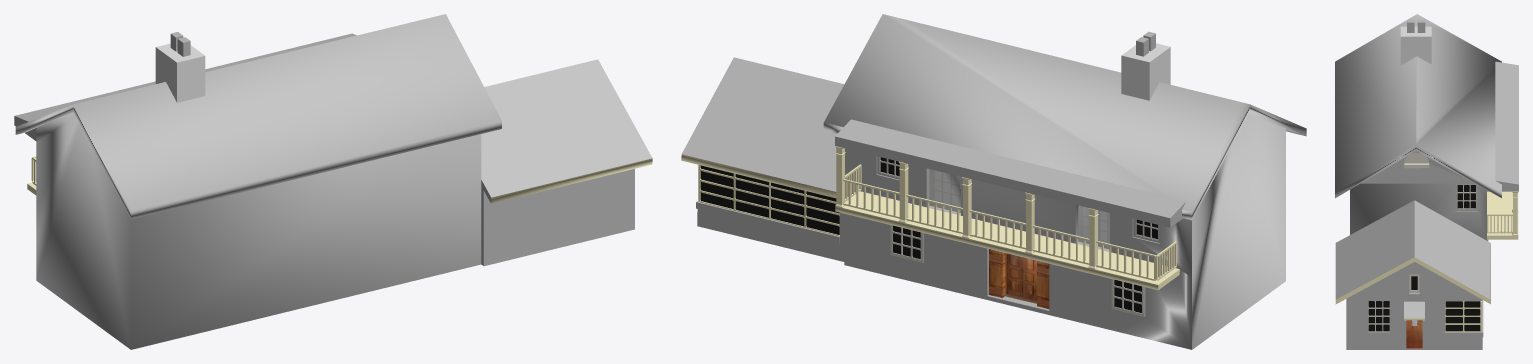
The model's file is bldgtest.fbx.
3 views of the same model, side by side, from view 1: azimuth 30°, elevation 25°; view 2: azimuth 150°, elevation 25°; view 3: azimuth 270°, elevation 25° (orthographic). The views are drawn at different scales.
Visible parts, largest first — view 1: House, House.009, House.005; view 2: House, House.009, House.002, Railing, Pillars, DoorFront, House.005, DoorFloor2, House.001, House.004; view 3: House.009, House, House.002, House.005, House.003, House.008, Door1, House.006, House.010, Railing, Pillars, House.007.
Boxes of the visible parts, box(x1,y1,x2,y2) form: House: box(27, 59, 652, 349); House.009: box(14, 14, 501, 219); House.005: box(155, 32, 205, 102); House: box(681, 57, 1285, 349); House.009: box(823, 14, 1306, 227); House.002: box(696, 165, 839, 243); Railing: box(843, 164, 1176, 280); Pillars: box(835, 146, 1098, 269); DoorFront: box(989, 249, 1049, 309); House.005: box(1121, 31, 1170, 100); DoorFloor2: box(926, 168, 1109, 251); House.001: box(890, 225, 1145, 316); House.004: box(876, 156, 1159, 243); House.009: box(1335, 14, 1518, 198); House: box(1335, 24, 1518, 349); House.002: box(1445, 300, 1483, 337); House.005: box(1400, 20, 1431, 65); House.003: box(1368, 301, 1389, 332); House.008: box(1455, 183, 1477, 211); Door1: box(1406, 320, 1422, 348); House.006: box(1404, 301, 1424, 320); House.010: box(1404, 153, 1429, 168); Railing: box(1487, 214, 1512, 233); Pillars: box(1512, 191, 1518, 235); House.007: box(1409, 274, 1419, 295).
Bounding box in the file's own units: 976 × 443 × 399.
9 materials, 3 textured.
